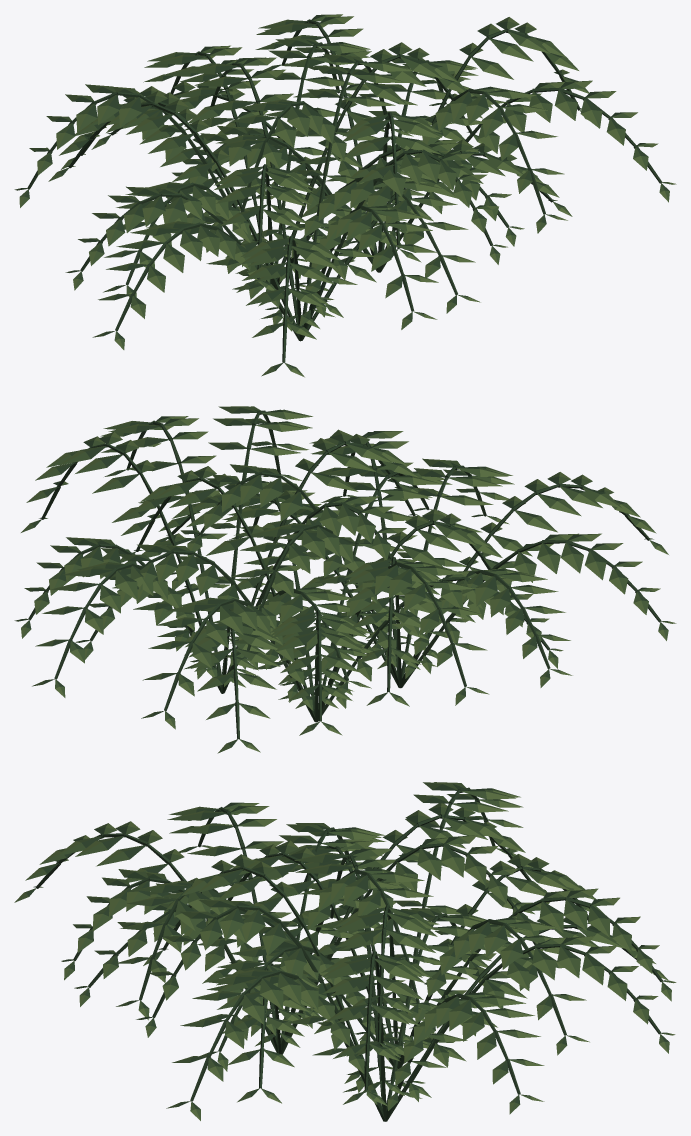
3 views of the same model, one above another, from view 1: azimuth 30°, elevation 25°; view 2: azimuth 150°, elevation 25°; view 3: azimuth 270°, elevation 25° (orthographic). The views are drawn at different scales.
Parts seen in each view (by area): view 1: fern-thicket · evaluated preview mesh; view 2: fern-thicket · evaluated preview mesh; view 3: fern-thicket · evaluated preview mesh.
Boxes of the visible parts, left/top/right/bottom form: fern-thicket · evaluated preview mesh: left=14, top=14, right=676, bottom=377; fern-thicket · evaluated preview mesh: left=14, top=406, right=676, bottom=753; fern-thicket · evaluated preview mesh: left=14, top=782, right=676, bottom=1121.
Size of the model in its own units: 3.75 by 1.4 by 3.59.
